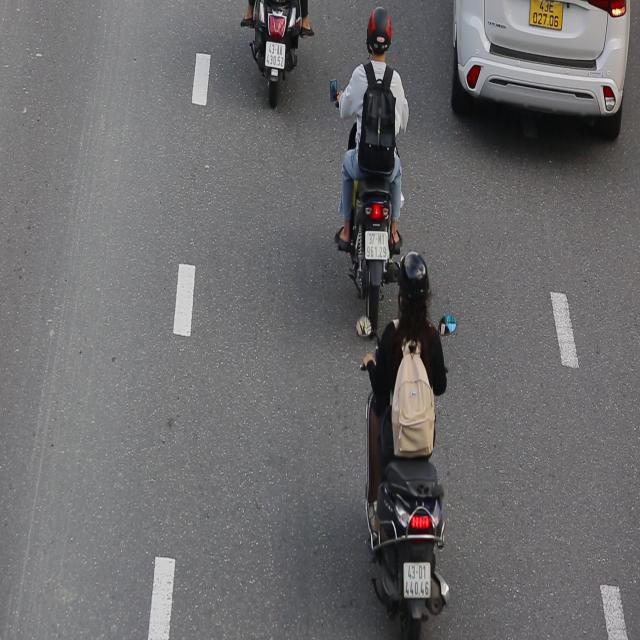motorbike: (355, 251, 453, 637), (330, 1, 408, 320)
